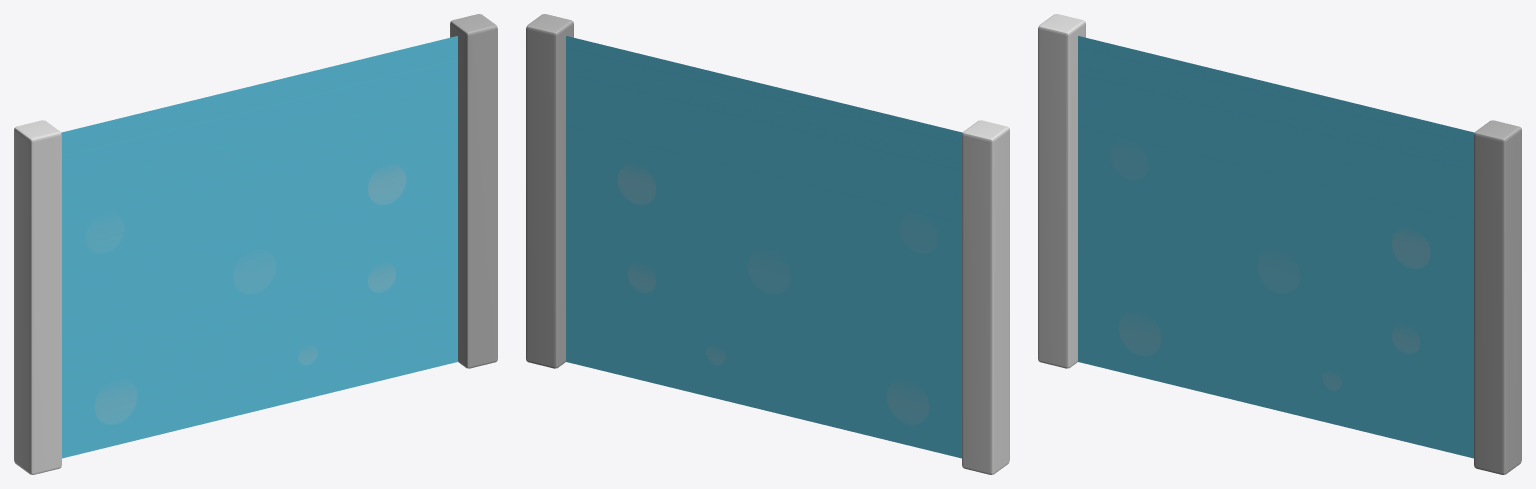
Rendered from Gate.fbx.
3 views of the same model, side by side, from view 1: azimuth 30°, elevation 25°; view 2: azimuth 150°, elevation 25°; view 3: azimuth 330°, elevation 25° (orthographic).
Visible parts, largest first — view 1: plane, Cube2, cube; view 2: plane, Cube2, cube; view 3: plane, cube, Cube2.
Part boxes in pixels (x1,y1,x2,y2): plane: [61, 36, 458, 458]; Cube2: [14, 120, 61, 474]; cube: [450, 14, 497, 368]; plane: [565, 36, 962, 458]; Cube2: [962, 120, 1009, 474]; cube: [526, 14, 573, 368]; plane: [1077, 36, 1474, 458]; cube: [1474, 120, 1521, 474]; Cube2: [1038, 14, 1085, 368].
Bounding box in the file's own units: 4.33 × 2.98 × 0.2977.
